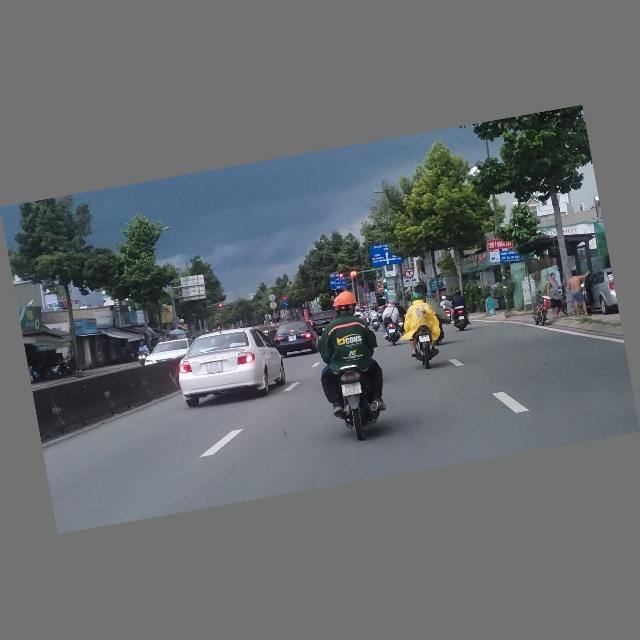P.137: (404, 269, 415, 279)
R.415a: (329, 276, 347, 291)
